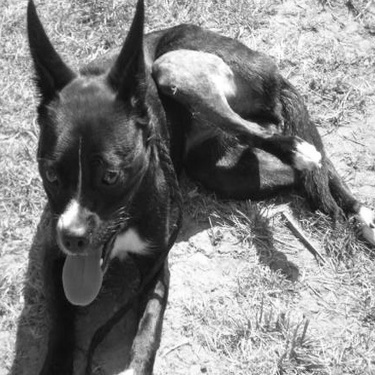dog: (8, 1, 374, 373)
